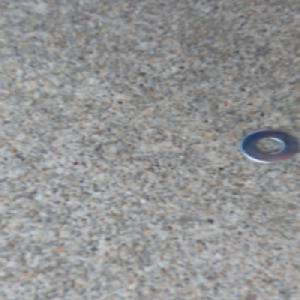Washer: (237, 127, 300, 166)
